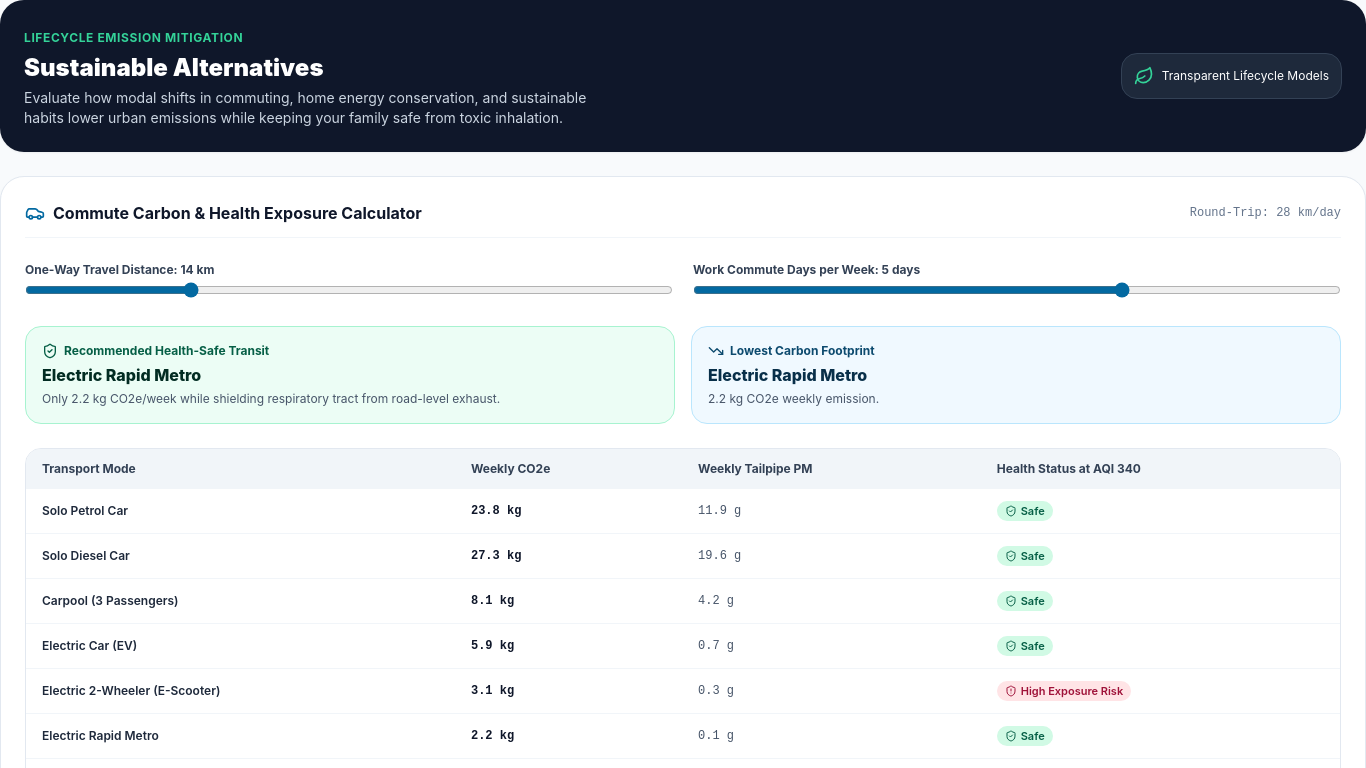
SustainableLivingView › calculates commute results and updates both distance and weekly commute sliders
Later steps or results of the test are not shown.
Expected: the text "Round-Trip: 28 km/day" is shown, [1190, 205, 1341, 221]
Set the slider labelled "One-Way Travel Distance: 14 km" to "30" at (402, 290), box [25, 282, 673, 298]
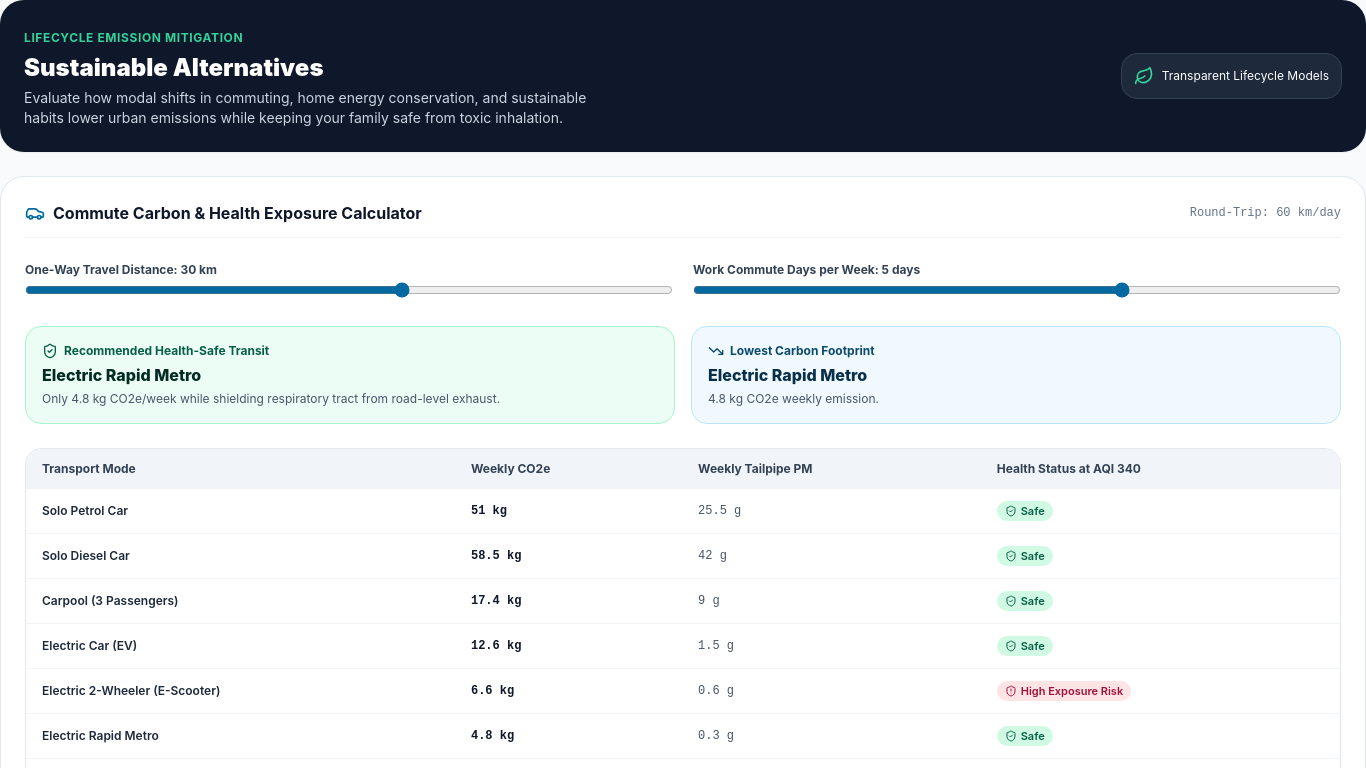
Set the slider labelled "Work Commute Days per Week: 5 days" to "2" at (806, 290), box [693, 282, 1341, 298]
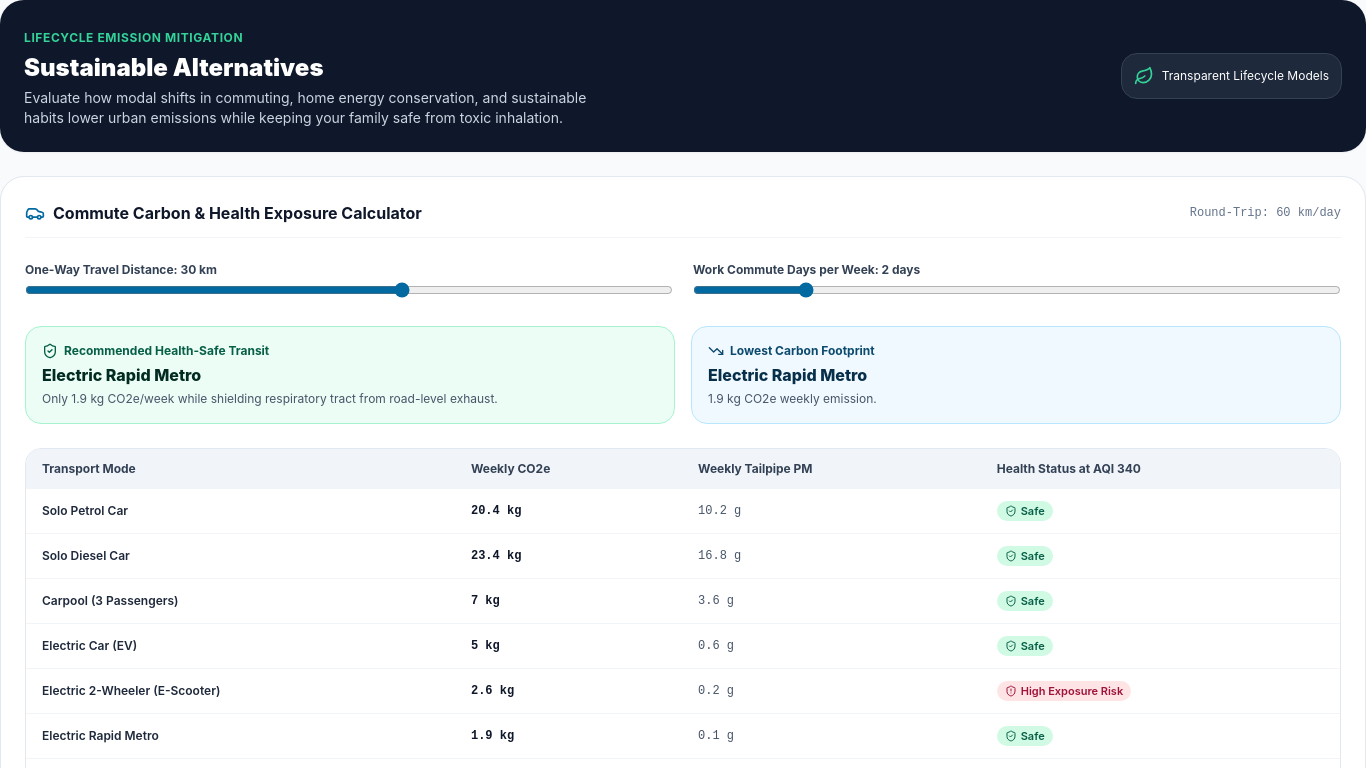
Expected: the text "Round-Trip: 60 km/day" is shown, [1190, 205, 1341, 221]
